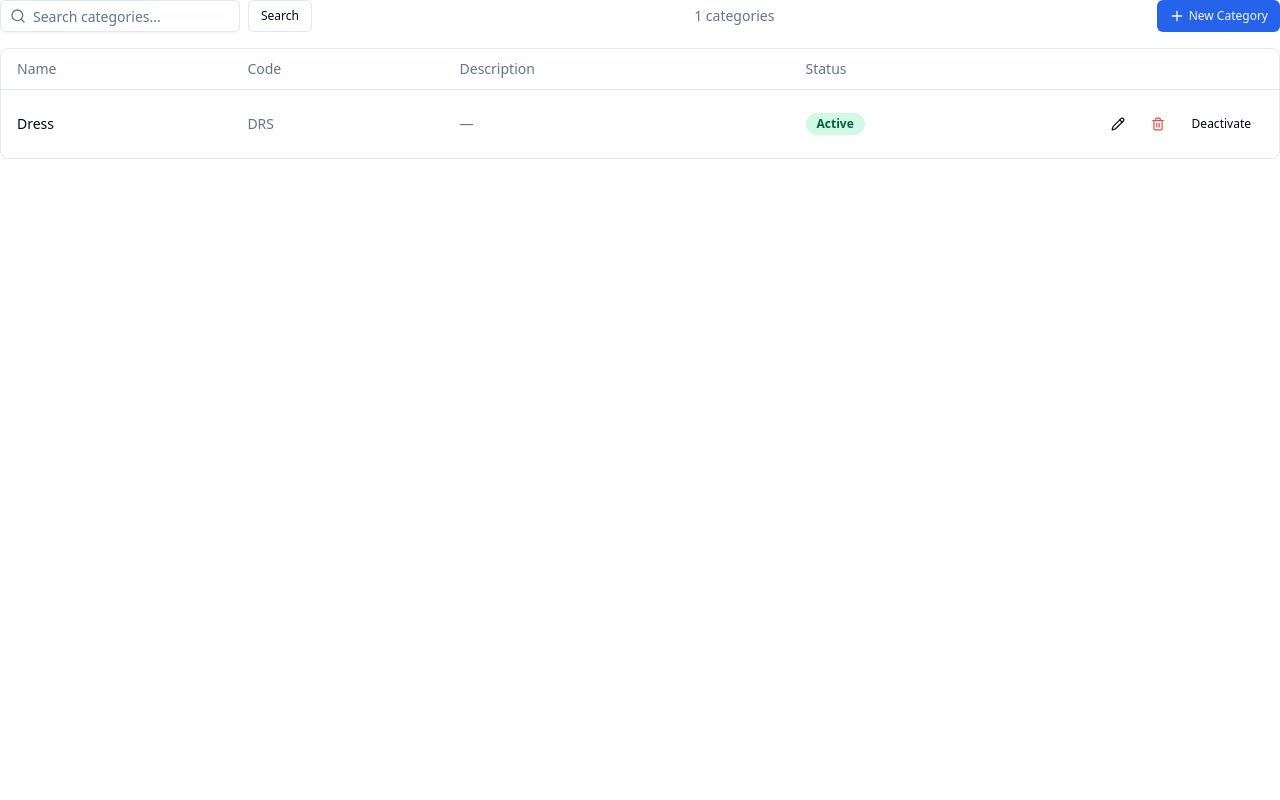
Scenario: edit button click opens the modal
Click the 3rd button at (1118, 124), box [1100,106,1136,142]
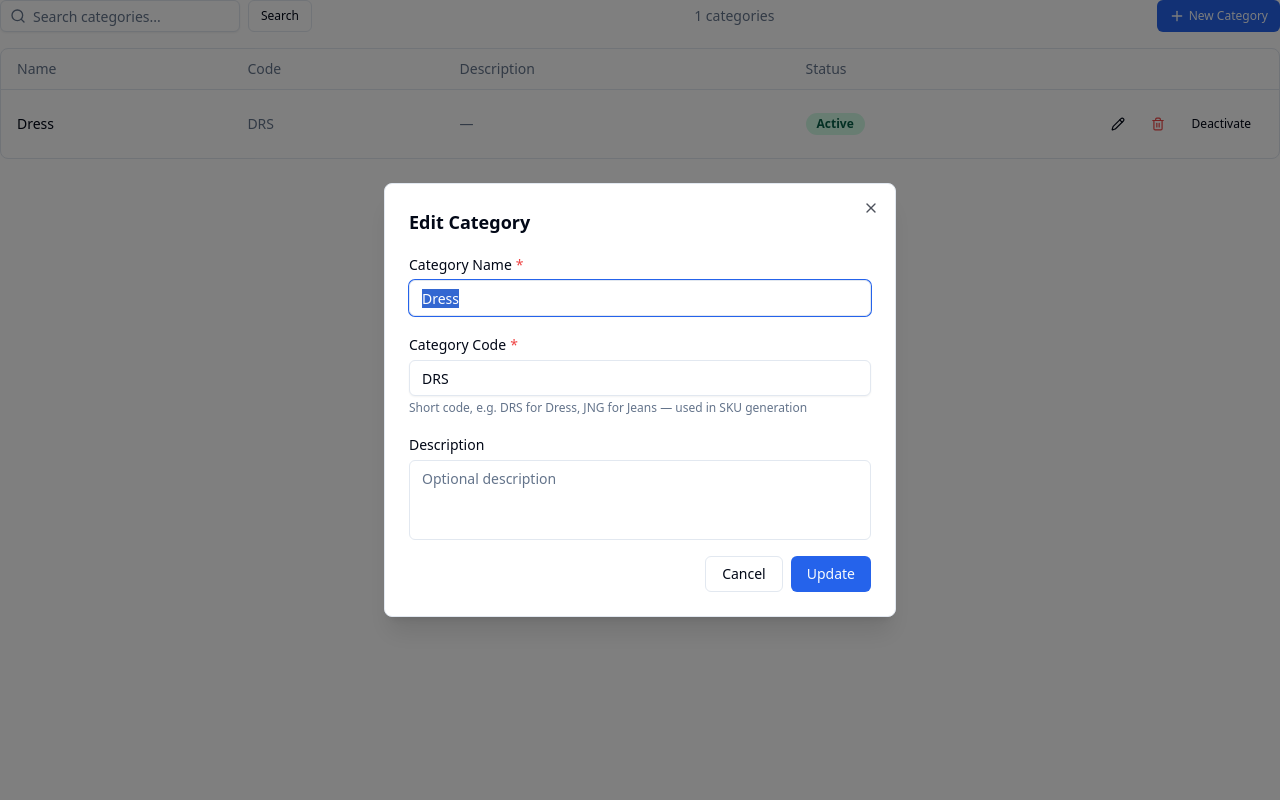
Result: the dialog is shown at [384,183,896,617]
